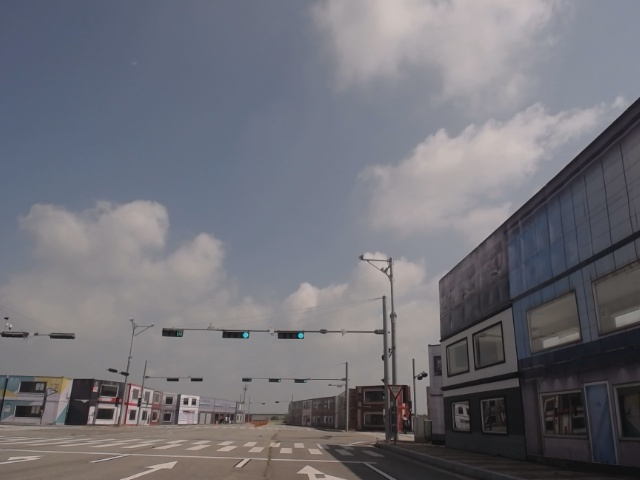straight_green_4: (224, 331, 249, 340), (278, 332, 306, 339)
